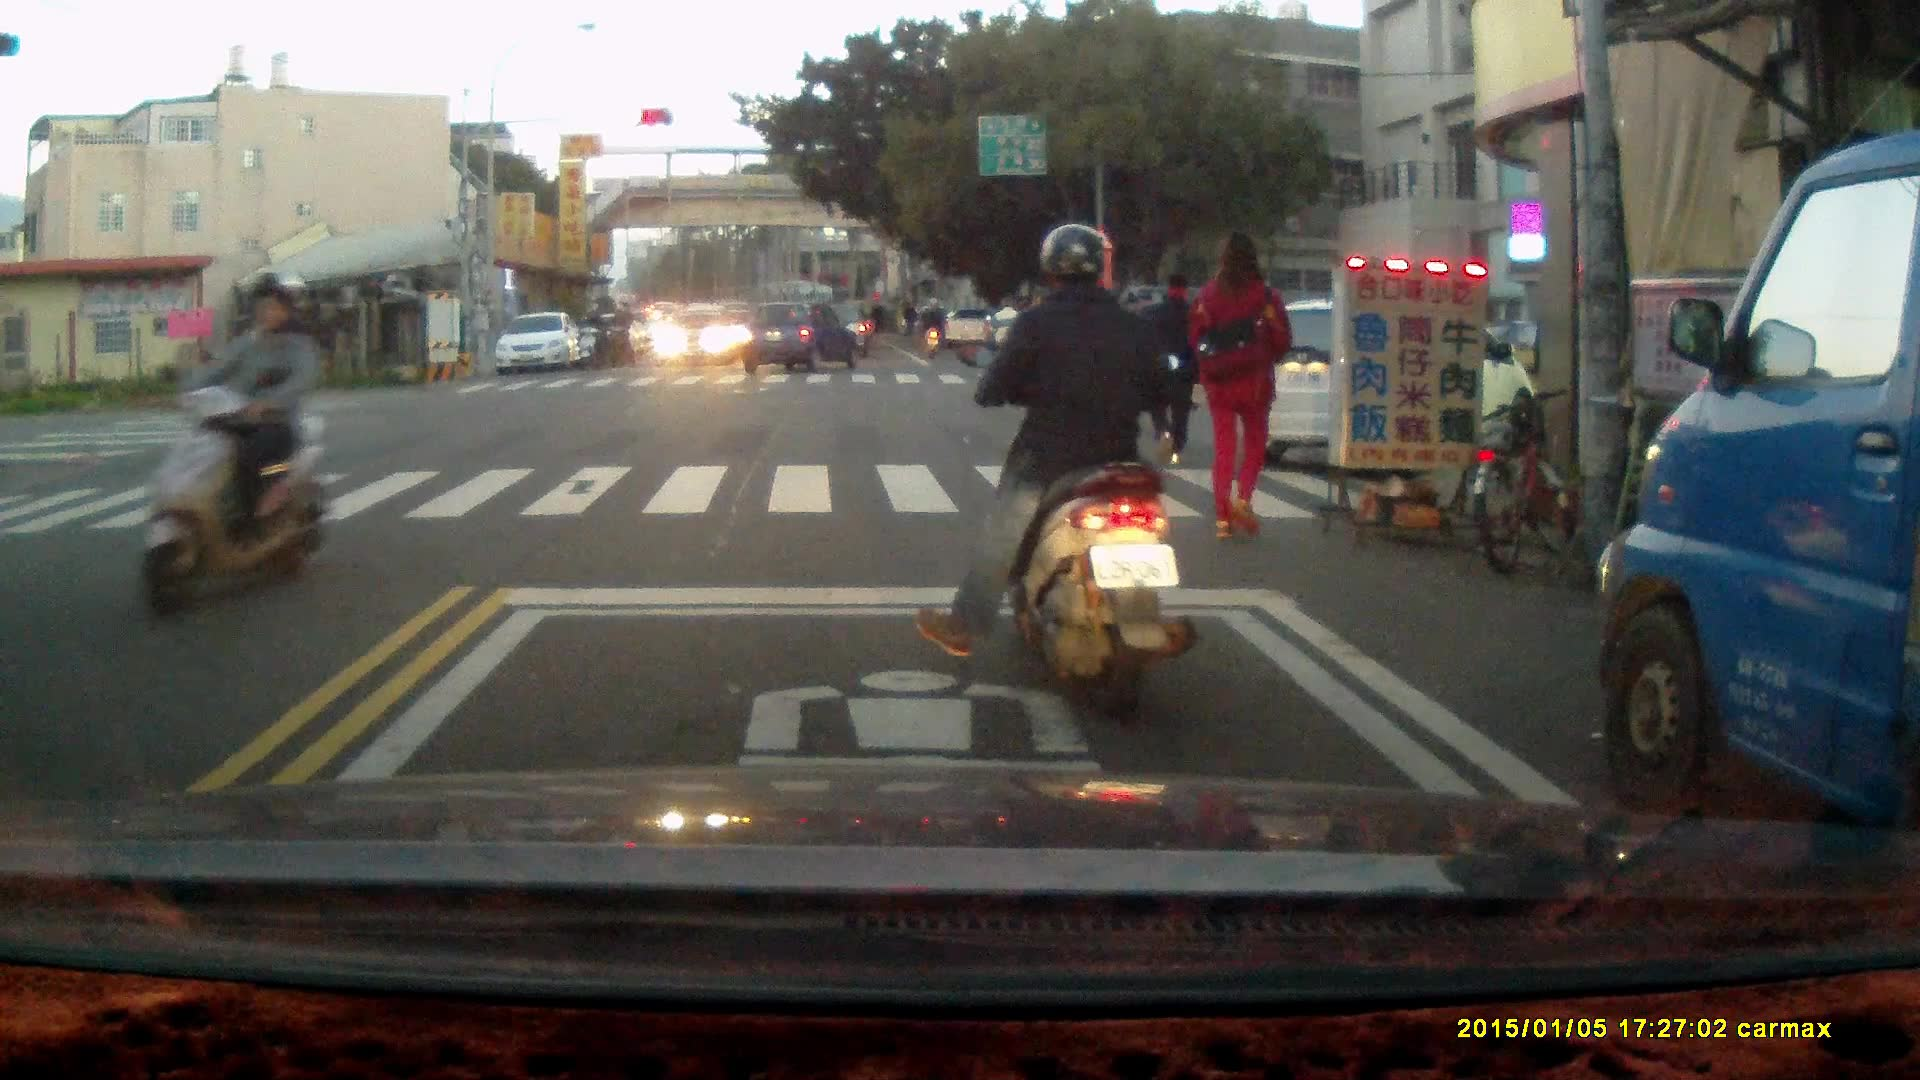pedestrian: (1190, 231, 1293, 546), (1132, 268, 1211, 472)
rider: (914, 220, 1192, 725), (137, 268, 329, 617), (575, 303, 607, 371), (602, 301, 632, 364), (915, 292, 943, 358)
vehicle: (1598, 132, 1920, 890), (1233, 296, 1533, 459), (740, 302, 856, 378), (498, 313, 586, 377)
